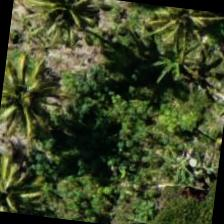Kelapa_Sawit: (0, 47, 75, 146), (136, 2, 223, 68), (16, 0, 113, 58), (0, 146, 49, 217)
